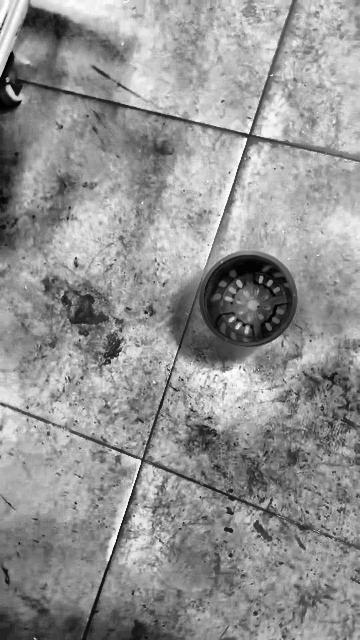pot: (198, 252, 297, 347)
